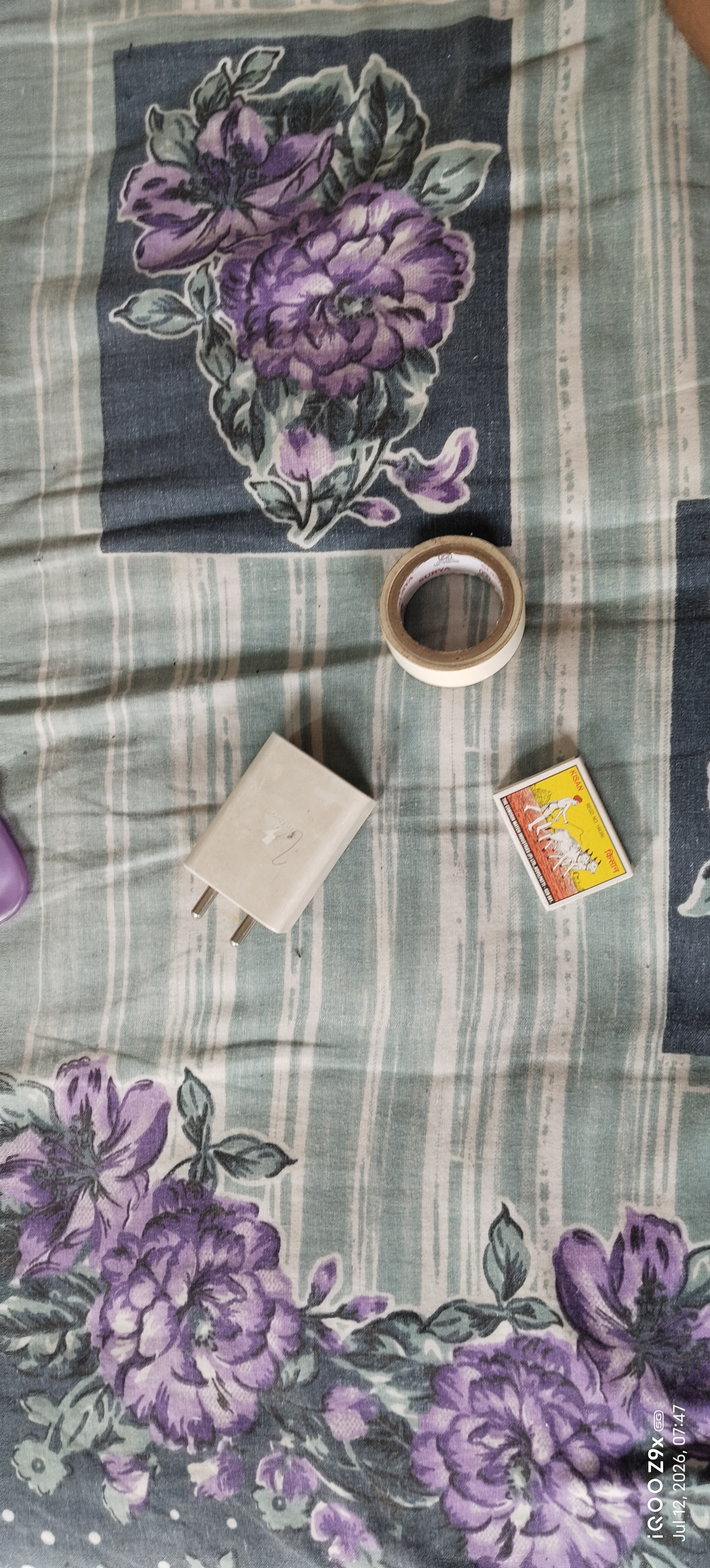charger: (165, 717, 387, 960)
matchbox: (484, 754, 639, 919)
tape_roll: (351, 522, 536, 700)
